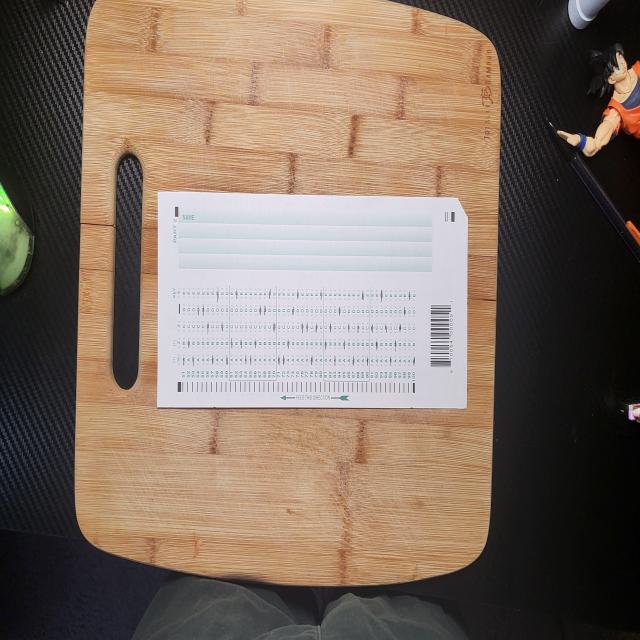scantron_back: (157, 191, 468, 409)
